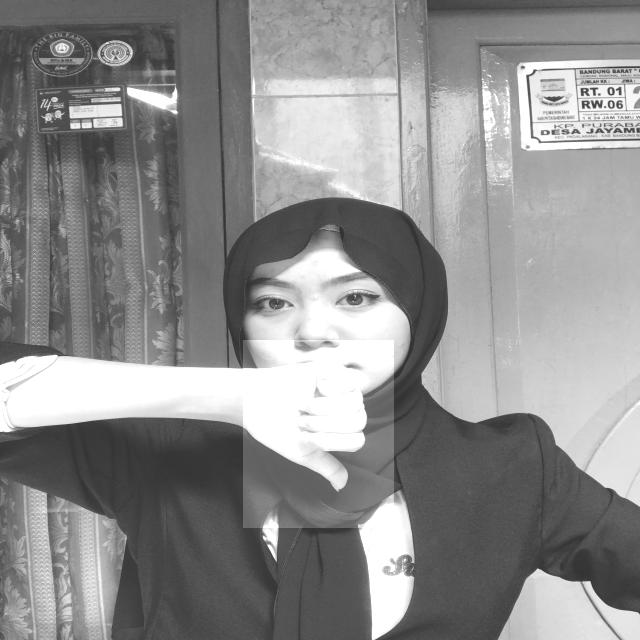sedih: (243, 340, 394, 528)
